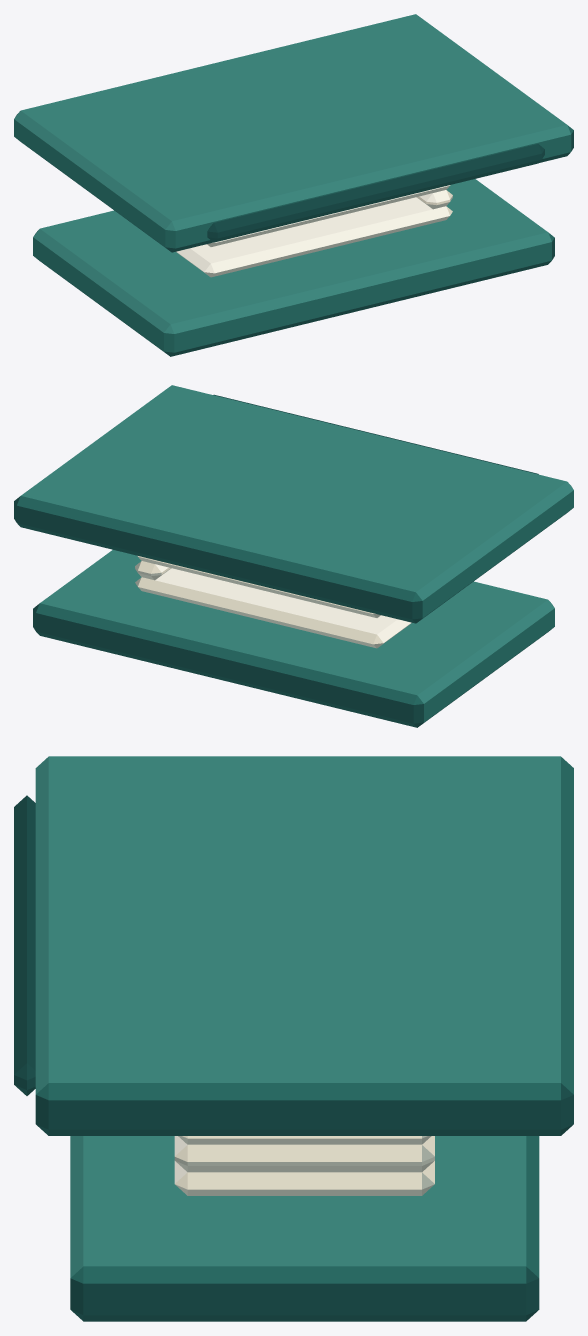
File: Spring_Off.gltf
3 views of the same model, one above another, from view 1: azimuth 30°, elevation 25°; view 2: azimuth 150°, elevation 25°; view 3: azimuth 270°, elevation 25° (orthographic). The views are drawn at different scales.
Visible parts, largest first — view 1: Spring_Off_baked; view 2: Spring_Off_baked; view 3: Spring_Off_baked.
Boxes of the visible parts, left/top/right/bottom form: Spring_Off_baked: left=14, top=14, right=573, bottom=356; Spring_Off_baked: left=14, top=385, right=573, bottom=727; Spring_Off_baked: left=14, top=756, right=573, bottom=1321.
Size of the model in its own units: 0.92 by 0.3125 by 0.645.
